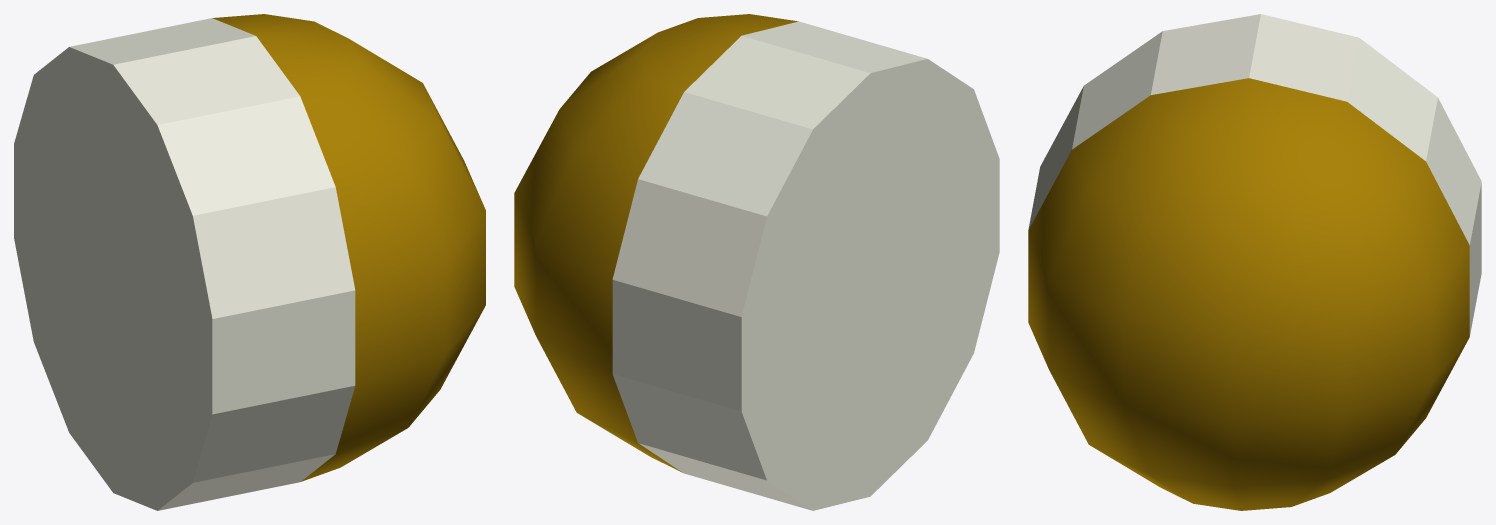
Rendered from flatsmooth.obj.
3 views of the same model, side by side, from view 1: azimuth 30°, elevation 25°; view 2: azimuth 150°, elevation 25°; view 3: azimuth 270°, elevation 25° (orthographic). The views are drawn at different scales.
Visible parts, largest first — view 1: Sphere; view 2: Sphere; view 3: Sphere.
Part boxes in pixels (<box>): Sphere: <box>14,14,485,510</box>; Sphere: <box>514,14,999,510</box>; Sphere: <box>1028,14,1481,510</box>.
Bounding box in the file's own units: 1.72 × 2 × 2.
